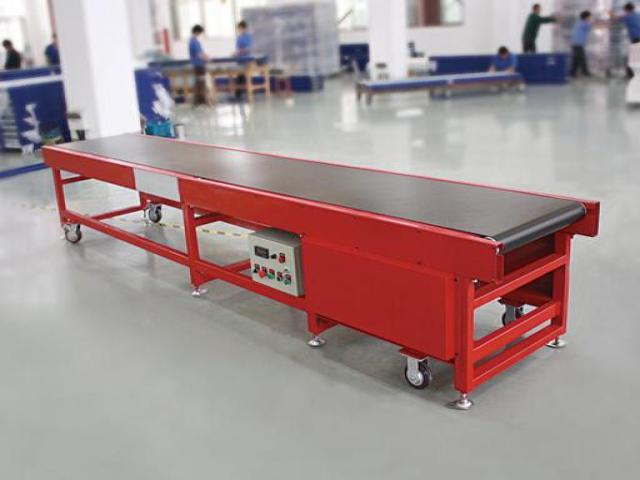conveyor: (38, 130, 602, 411)
